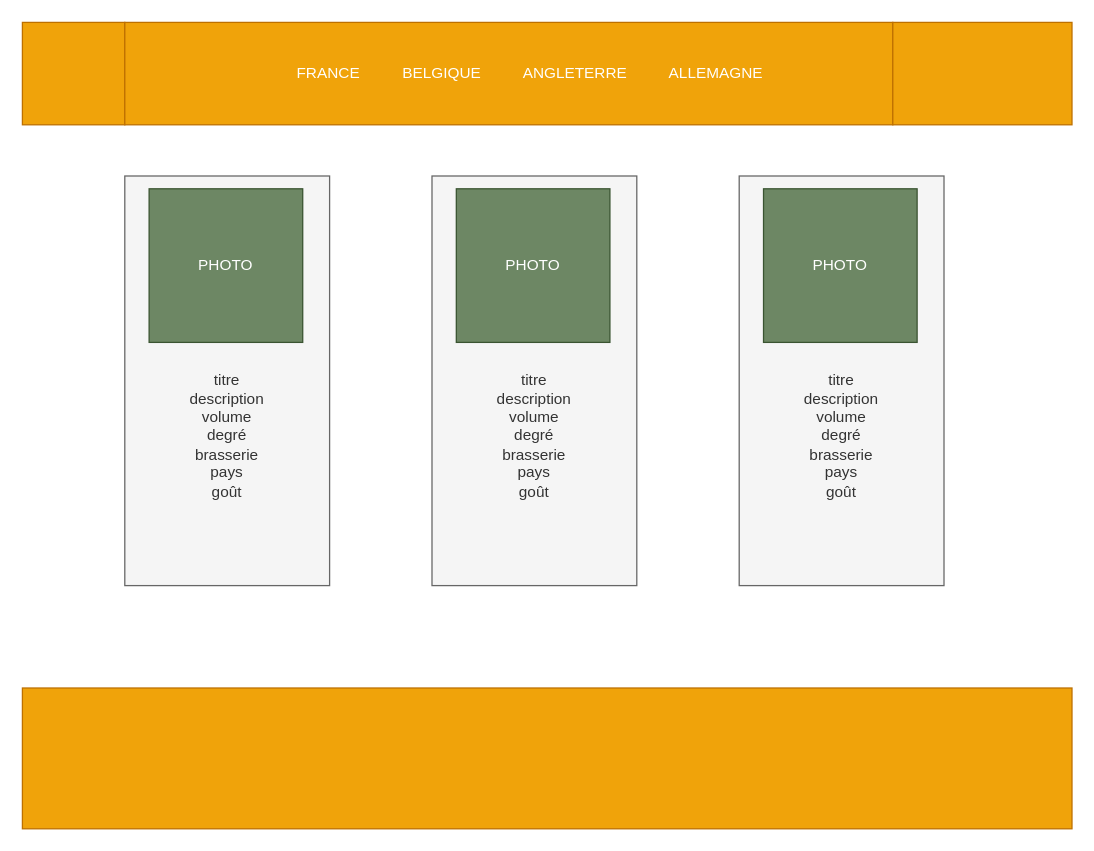
Some shapes in this 1094 by 851 pixel diagram are drawn without their labels. Each missing label, with the box of its shape:
LOGO: (21, 21, 125, 125)
RECHERCHE: (892, 21, 1072, 125)
Services clients A porops Conditions Suivez-nous: (21, 687, 1072, 829)
